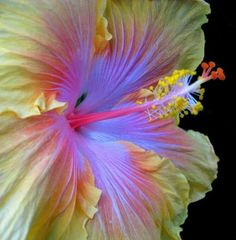Hibiscus: (1, 1, 231, 240)
